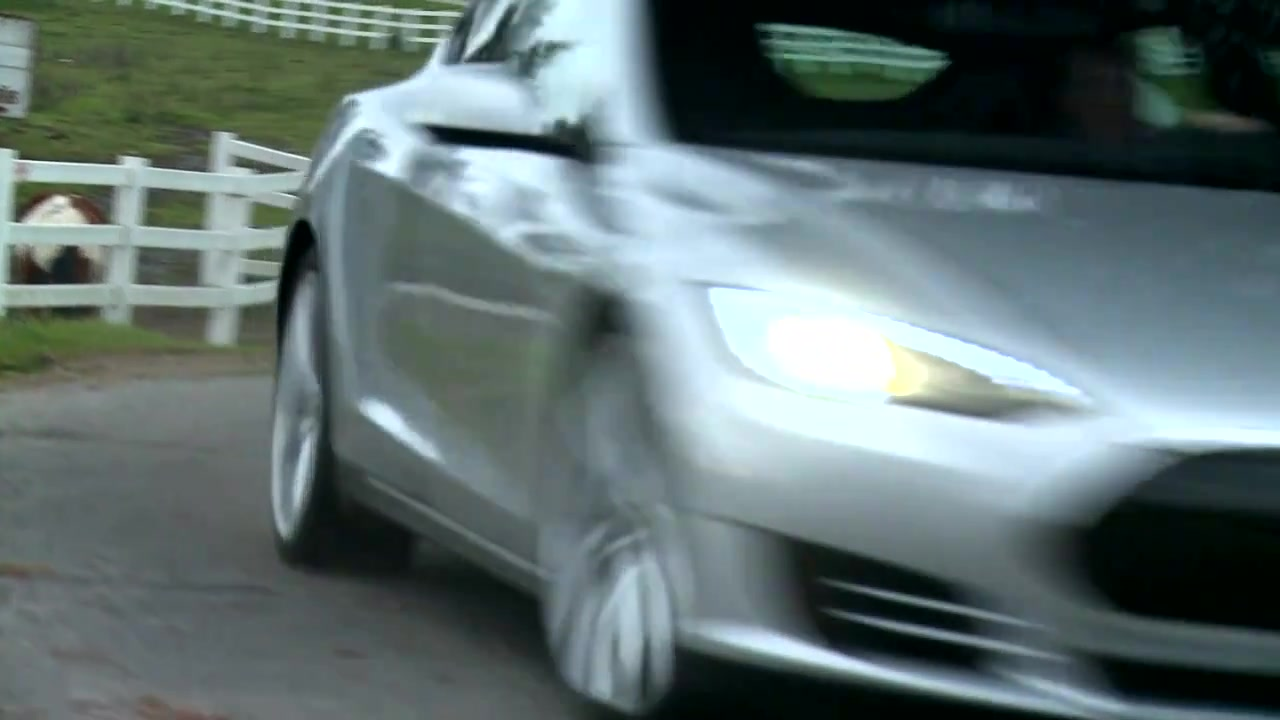car: (264, 3, 1280, 720)
